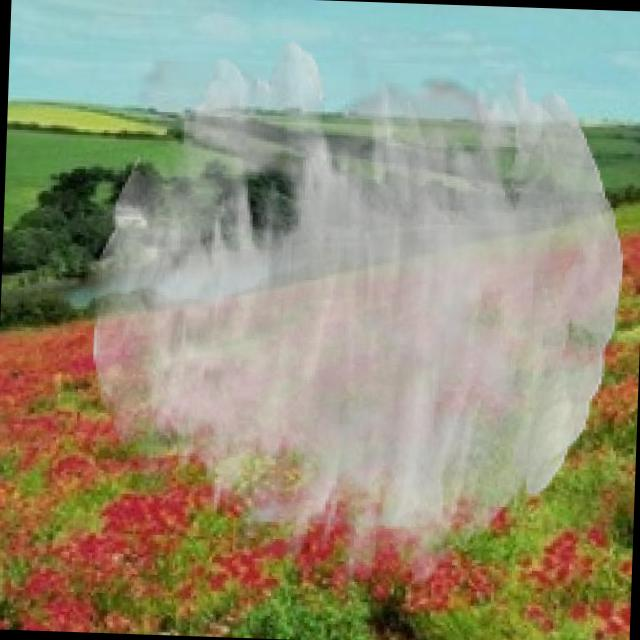Smoke: (82, 32, 630, 599)
